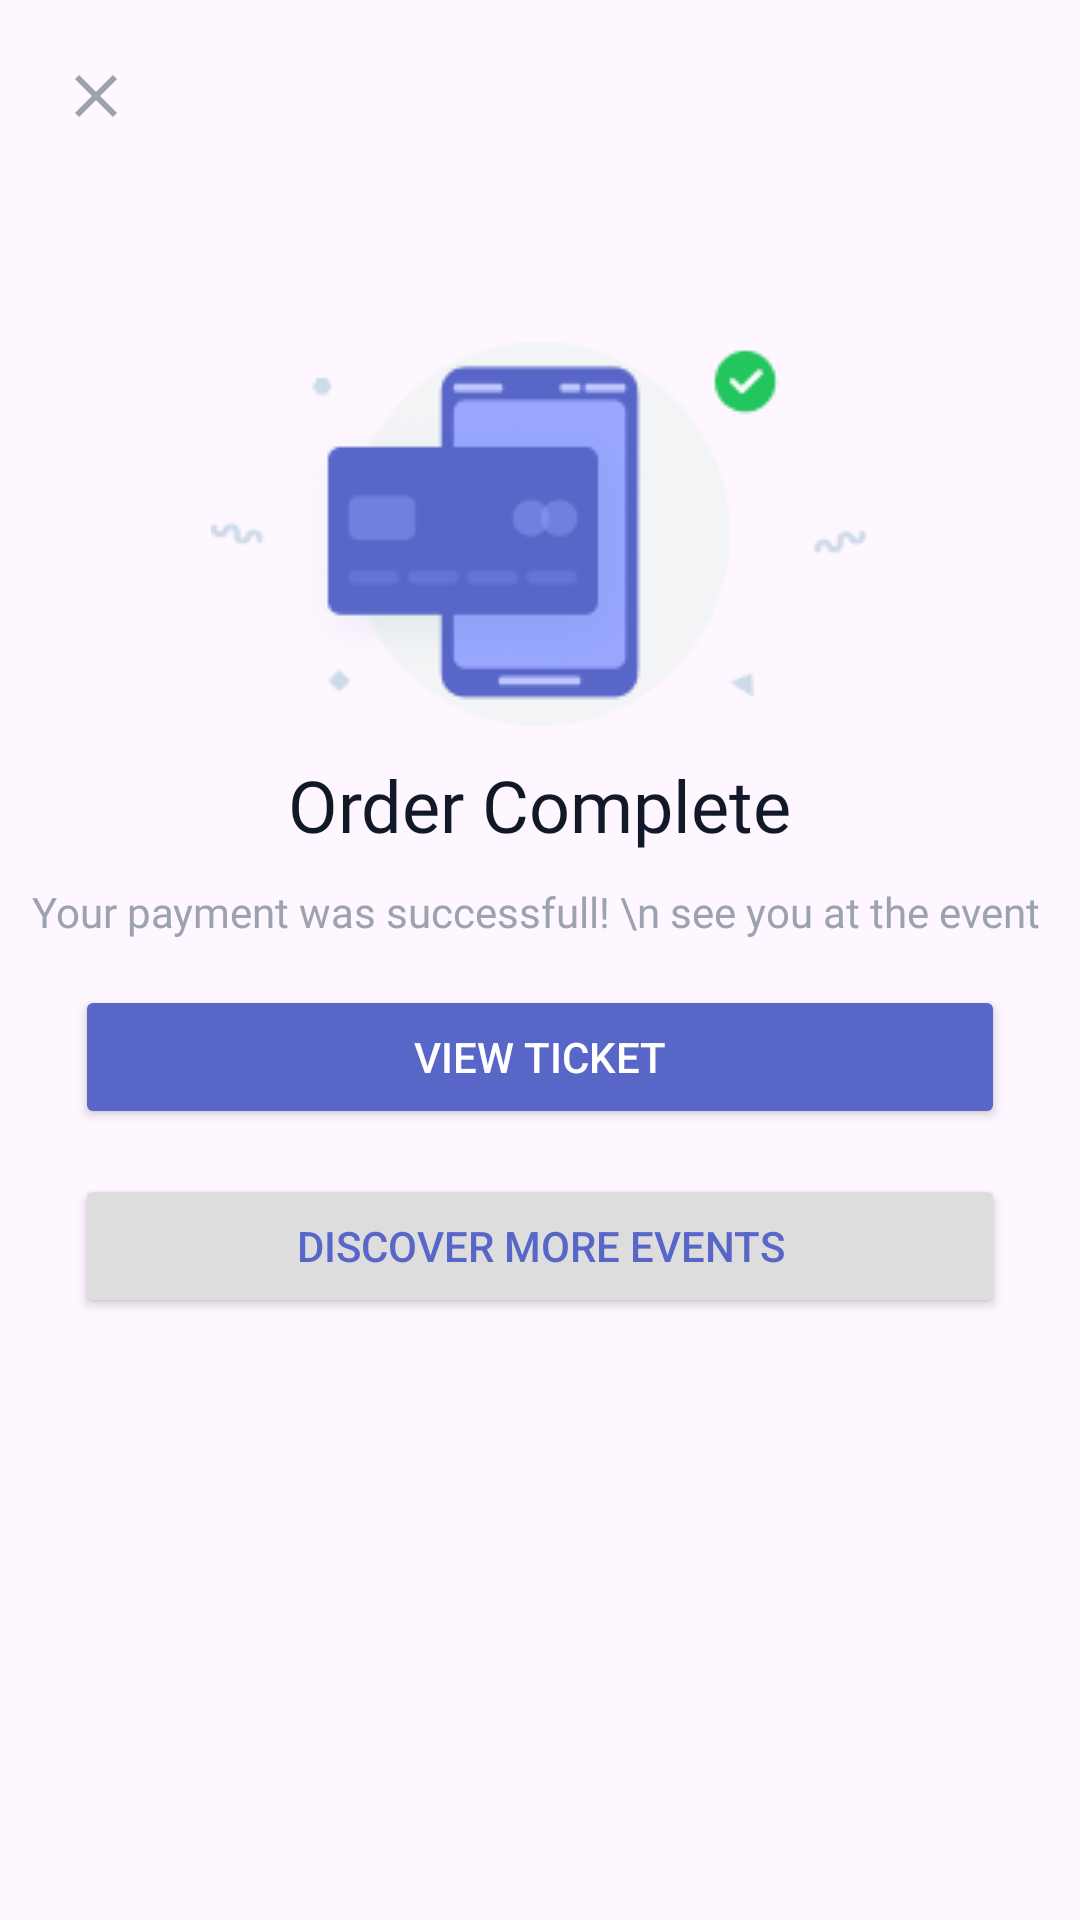

Named icons in this screenshot (1080 × 1920) and their centers, [x,y]:
close: [96,96]
